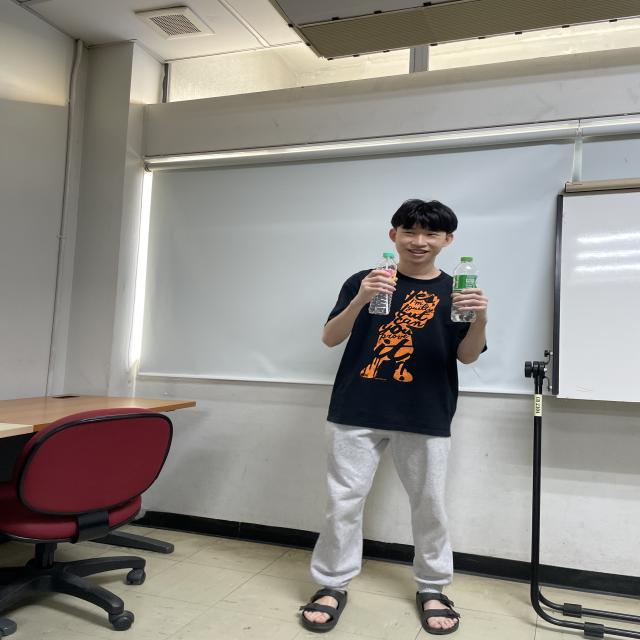bottle: (366, 250, 401, 316), (449, 255, 482, 324)
